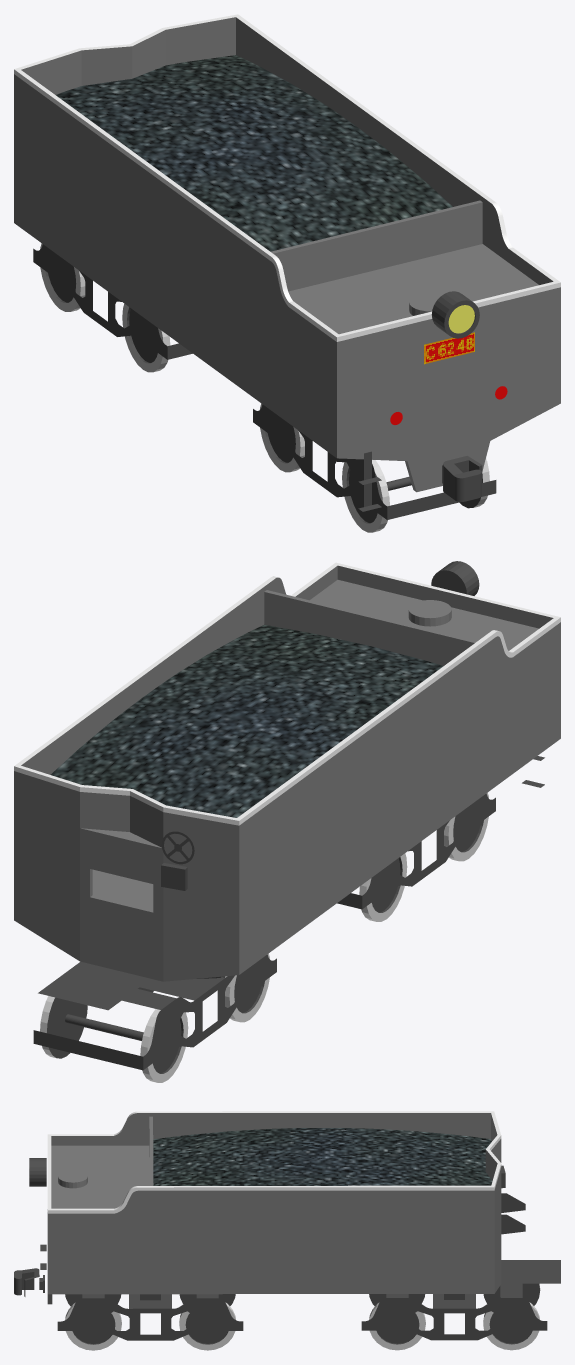
File: C62-simple-car2.glb
The picture shows the model from 3 angles, top to bottom: view 1: azimuth 30°, elevation 25°; view 2: azimuth 150°, elevation 25°; view 3: azimuth 270°, elevation 25°; orthographic projection. The views are drawn at different scales.
Visible parts, largest first — view 1: コンポーネント, Component#7.001, Component#7; view 2: コンポーネント, Component#7, Component#7.001; view 3: コンポーネント, Component#7, Component#7.001.
Part boxes in pixels (<box>): コンポーネント: <box>14,14,560,511</box>; Component#7.001: <box>253,403,496,532</box>; Component#7: <box>33,243,192,372</box>; コンポーネント: <box>14,561,560,1010</box>; Component#7: <box>33,953,276,1082</box>; Component#7.001: <box>337,792,495,921</box>; コンポーネント: <box>14,1111,560,1304</box>; Component#7: <box>361,1283,547,1350</box>; Component#7.001: <box>57,1294,243,1350</box>.
Bounding box in the file's own units: 3 × 3.35 × 9.08.
8 materials, 2 textured.
